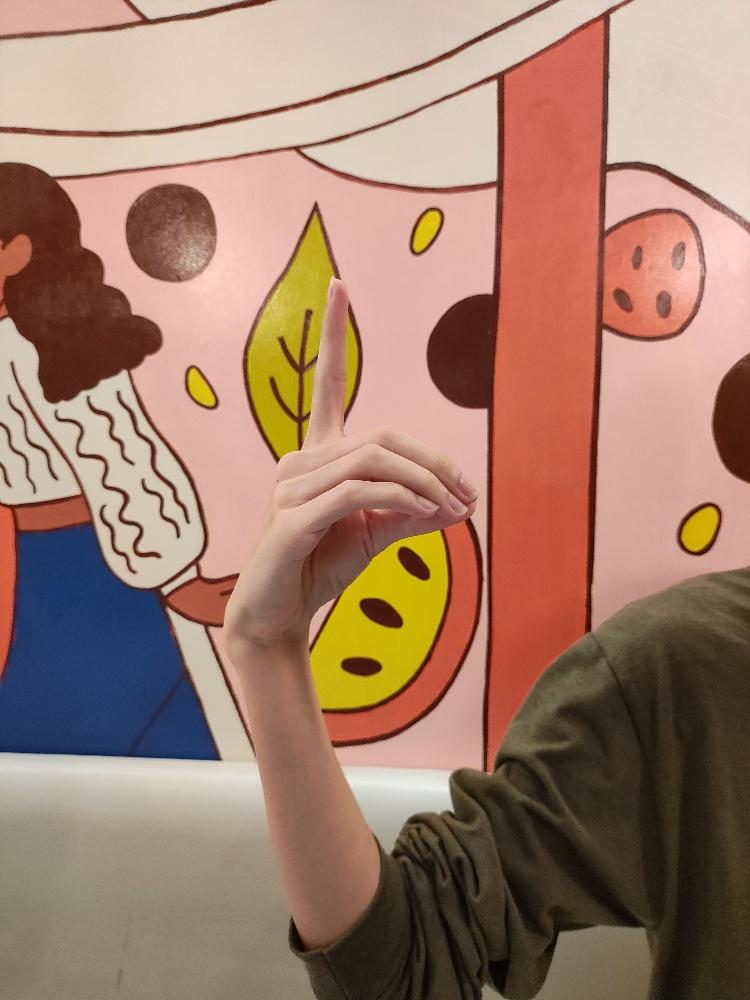d: (218, 271, 482, 644)
